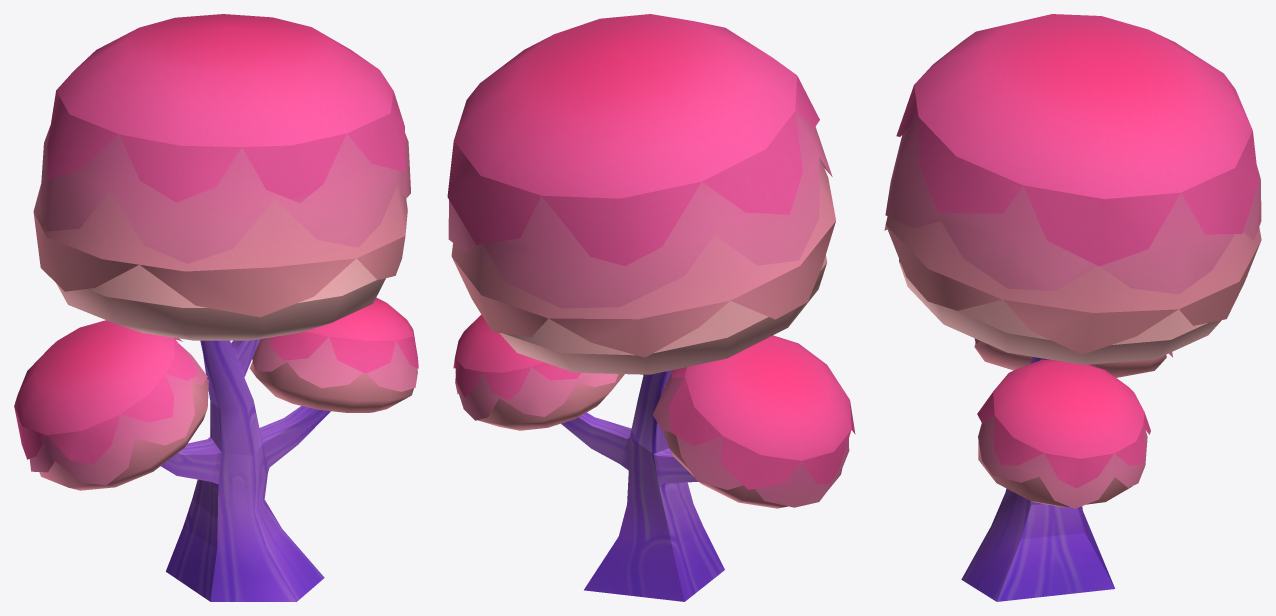
File: bg_tree_4.FBX
3 views of the same model, side by side, from view 1: azimuth 30°, elevation 25°; view 2: azimuth 150°, elevation 25°; view 3: azimuth 270°, elevation 25° (orthographic).
Parts seen in each view (by area): view 1: Sphere010; view 2: Sphere010; view 3: Sphere010.
Part boxes in pixels (<box>): Sphere010: <box>14,14,418,601</box>; Sphere010: <box>447,14,855,601</box>; Sphere010: <box>884,14,1261,601</box>.
Size of the model in its own units: 157 by 211 by 137.
